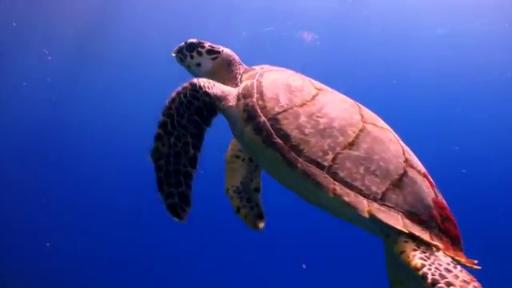Fish: (152, 40, 481, 287)
